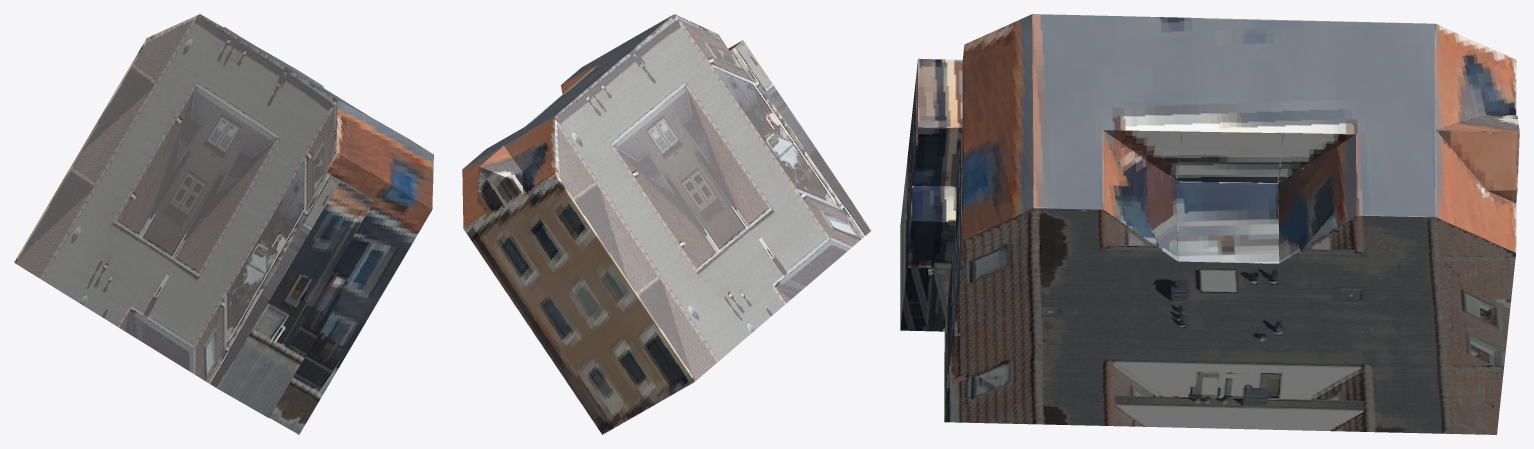
The picture shows the model from 3 angles, left to right: view 1: azimuth 30°, elevation 25°; view 2: azimuth 150°, elevation 25°; view 3: azimuth 270°, elevation 25°; orthographic projection. The views are drawn at different scales.
Visible parts, largest first — view 1: BAG_0599100000670788 (×2); view 2: BAG_0599100000670788 (×2); view 3: BAG_0599100000670788 (×4).
Boxes of the visible parts, box(x1,y1,x2,y2) form: BAG_0599100000670788 (×2): box(14, 14, 433, 434); BAG_0599100000670788 (×2): box(462, 14, 871, 434); BAG_0599100000670788 (×4): box(900, 14, 1519, 434).
Bounding box in the file's own units: 13 × 14.35 × 16.86.
1 material, 1 textured.
